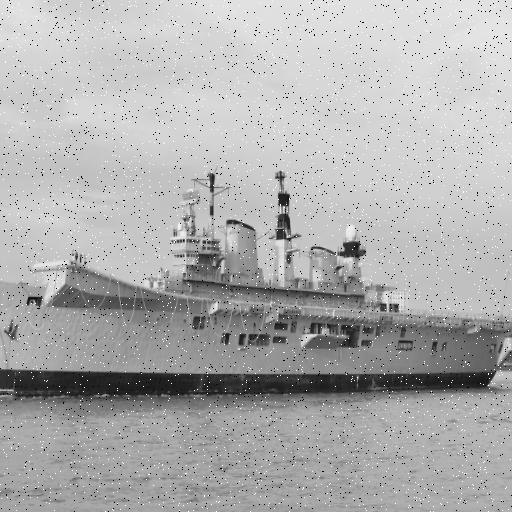Portanaves: (1, 154, 512, 393)
